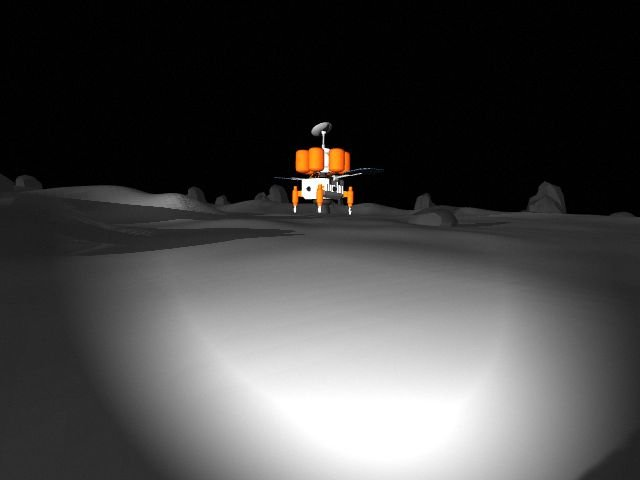homebase: (257, 119, 384, 217)
